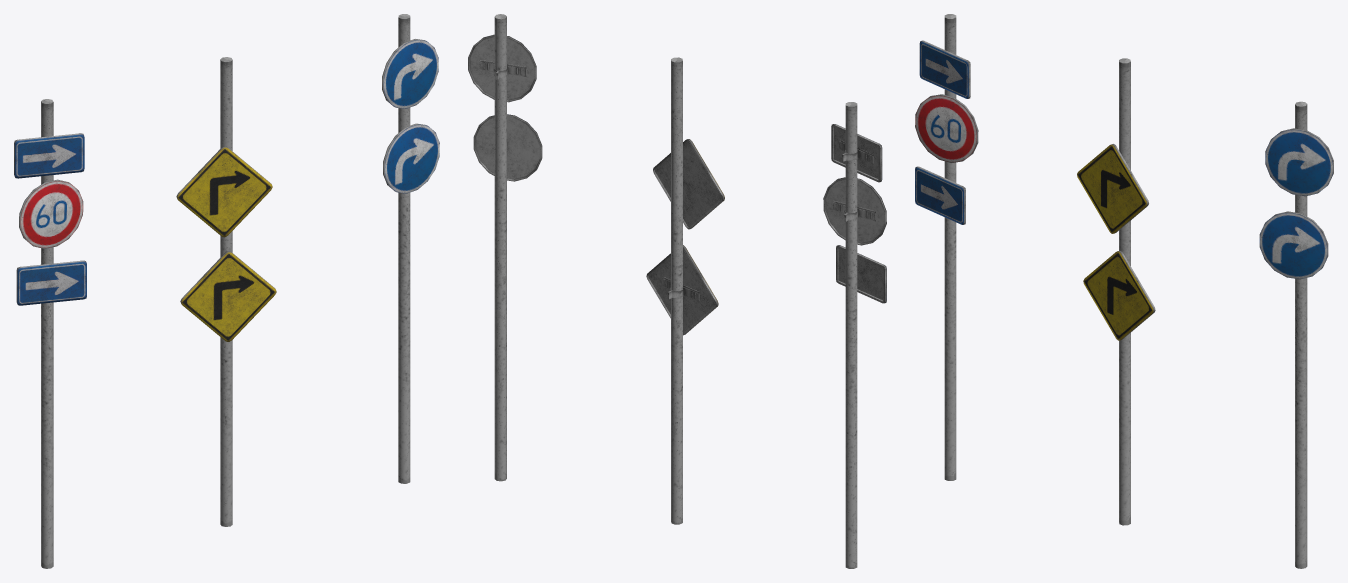
The picture shows the model from 3 angles, left to right: view 1: azimuth 30°, elevation 25°; view 2: azimuth 150°, elevation 25°; view 3: azimuth 330°, elevation 25°; orthographic projection.
Visible parts, largest first — view 1: square5, square5_RightArrowSquare_0.001, main_tube6, main_tube3, main_tube12, circle_new2, circle_new1_RightArrowCircle_0.002, circle_new1, rectangle_DirectionArrow_0.001, rectangle; view 2: main_tube6, main_tube3, main_tube12, circle_new1_RightArrowCircle_0.002, square5_RightArrowSquare_0.001, circle_new1, square5, circle_new2, rectangle_DirectionArrow_0.001, rectangle; view 3: main_tube6, main_tube3, main_tube12, circle_new1_RightArrowCircle_0.002, circle_new1, square5, square5_RightArrowSquare_0.001, circle_new2, rectangle, rectangle_DirectionArrow_0.001.
Boxes of the visible parts, box(x1,y1,x2,y2) form: square5: box(180, 251, 276, 341); square5_RightArrowSquare_0.001: box(176, 146, 272, 237); main_tube6: box(398, 14, 410, 483); main_tube3: box(41, 99, 53, 568); main_tube12: box(220, 57, 232, 526); circle_new2: box(19, 179, 83, 248); circle_new1_RightArrowCircle_0.002: box(383, 123, 439, 193); circle_new1: box(382, 39, 438, 108); rectangle_DirectionArrow_0.001: box(16, 260, 86, 305); rectangle: box(14, 133, 84, 178); main_tube6: box(494, 14, 506, 481); main_tube3: box(845, 102, 857, 568); main_tube12: box(671, 57, 682, 524); circle_new1_RightArrowCircle_0.002: box(473, 114, 542, 181); square5_RightArrowSquare_0.001: box(653, 139, 724, 229); circle_new1: box(468, 34, 536, 102); square5: box(646, 245, 718, 335); circle_new2: box(823, 177, 886, 245); rectangle_DirectionArrow_0.001: box(836, 245, 886, 303); rectangle: box(831, 124, 882, 182); main_tube6: box(1295, 101, 1307, 568); main_tube3: box(944, 14, 956, 480); main_tube12: box(1119, 58, 1130, 525); circle_new1_RightArrowCircle_0.002: box(1259, 211, 1328, 279); circle_new1: box(1265, 128, 1333, 196); square5: box(1083, 250, 1155, 340); square5_RightArrowSquare_0.001: box(1077, 144, 1148, 233); circle_new2: box(915, 94, 978, 162); rectangle: box(919, 40, 970, 98); rectangle_DirectionArrow_0.001: box(915, 166, 965, 224).
Size of the model in its own units: 0.0235 by 0.0248 by 0.00194.
7 materials, 7 textured.
